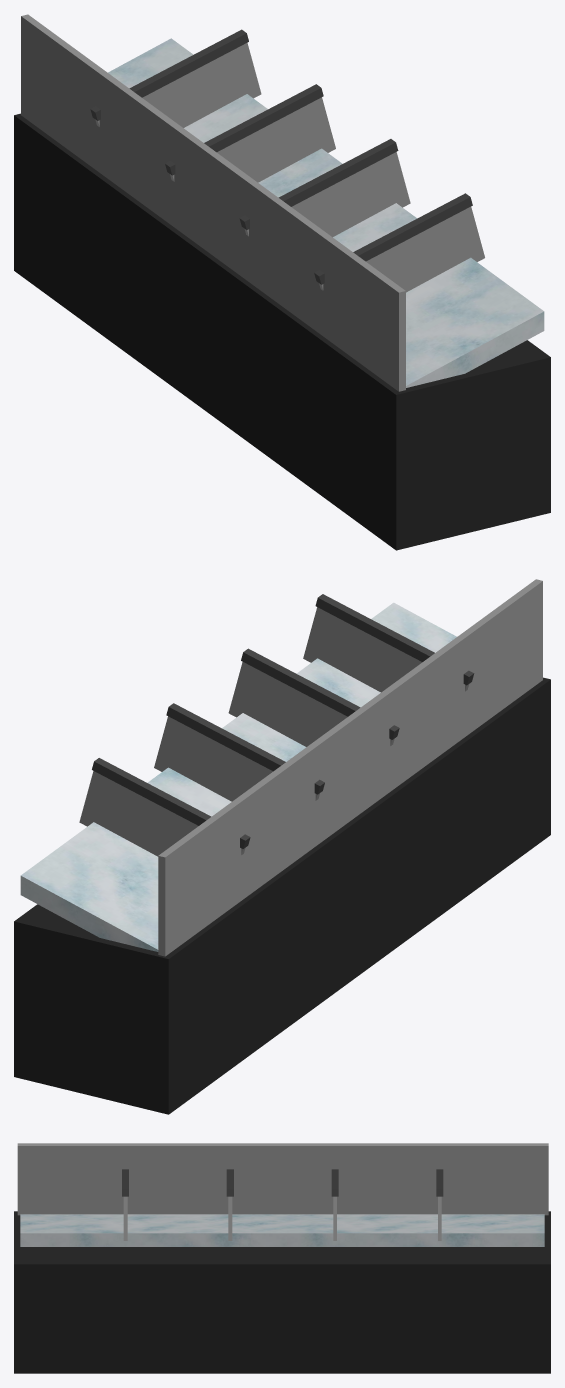
File: huojia5.FBX
The picture shows the model from 3 angles, top to bottom: view 1: azimuth 30°, elevation 25°; view 2: azimuth 150°, elevation 25°; view 3: azimuth 270°, elevation 25°; orthographic projection. The views are drawn at different scales.
Visible parts, largest first — view 1: huojia9; view 2: huojia9; view 3: huojia9.
Boxes of the visible parts, <box> form: huojia9: <box>14,14,550,550</box>; huojia9: <box>14,579,550,1114</box>; huojia9: <box>14,1143,550,1373</box>.
Size of the model in its own units: 132 by 196 by 521.
